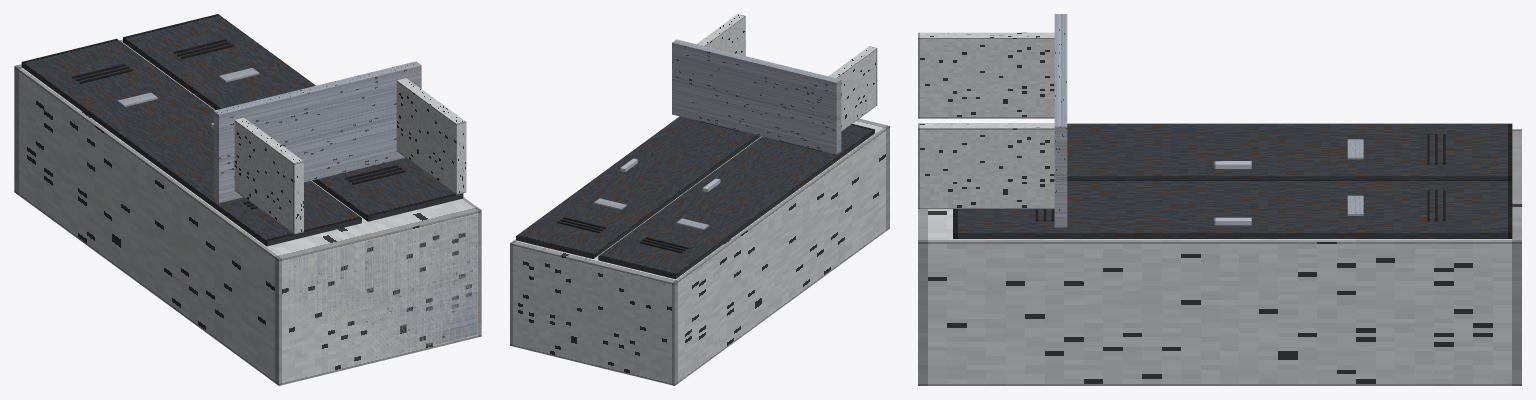
Rendered from locker_medbay_clean.glb.
3 views of the same model, side by side, from view 1: azimuth 30°, elevation 25°; view 2: azimuth 150°, elevation 25°; view 3: azimuth 270°, elevation 25° (orthographic). The views are drawn at different scales.
Parts seen in each view (by area): view 1: locker_medbay_clean; view 2: locker_medbay_clean; view 3: locker_medbay_clean.
Part boxes in pixels (left/top/right/bottom): locker_medbay_clean: left=14, top=14, right=481, bottom=385; locker_medbay_clean: left=510, top=14, right=889, bottom=385; locker_medbay_clean: left=918, top=14, right=1521, bottom=385.
Bounding box in the file's own units: 0.84 × 0.9 × 1.9.
Materials: 6 (6 with a texture image).
